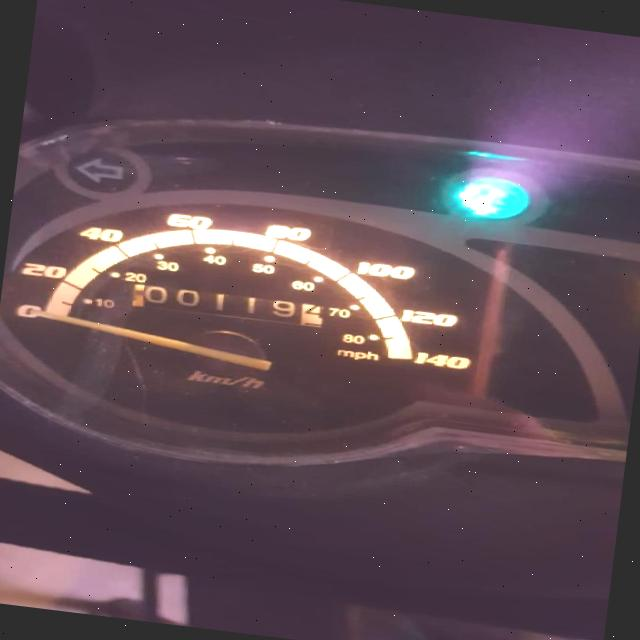odometer: (127, 280, 325, 330)
